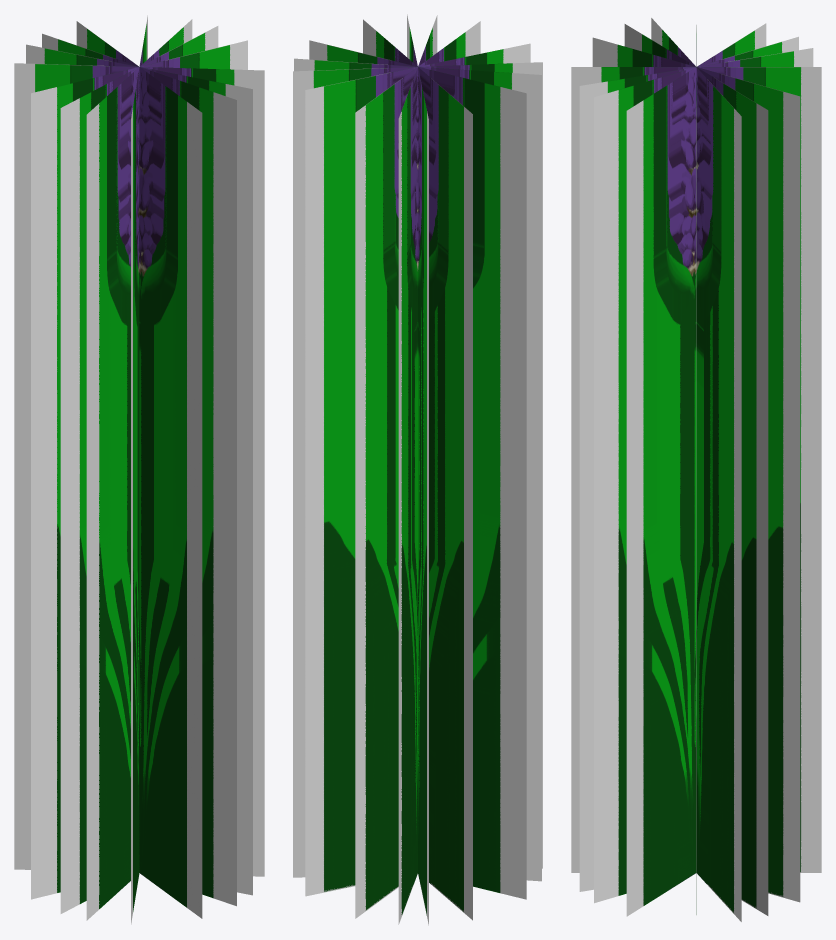
The model's file is lavender.fbx.
3 renders of one model, left to right at view 1: azimuth 30°, elevation 25°; view 2: azimuth 150°, elevation 25°; view 3: azimuth 270°, elevation 25°, orthographic.
Visible parts, largest first — view 1: pPlane9; view 2: pPlane9; view 3: pPlane9.
Part boxes in pixels (x1,y1,x2,y2): pPlane9: (14, 15, 264, 924); pPlane9: (293, 14, 542, 925); pPlane9: (571, 18, 821, 921).
Size of the model in its own units: 0.5564 by 1.97 by 0.5564.
1 material, 1 textured.
